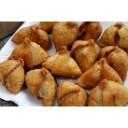samosa: (81, 59, 124, 85), (26, 67, 55, 105), (44, 46, 81, 75), (90, 80, 128, 107), (99, 45, 128, 80), (11, 38, 48, 64), (1, 60, 26, 93), (71, 38, 99, 66), (15, 26, 49, 47), (102, 20, 128, 47), (58, 82, 86, 107), (53, 19, 78, 46)
